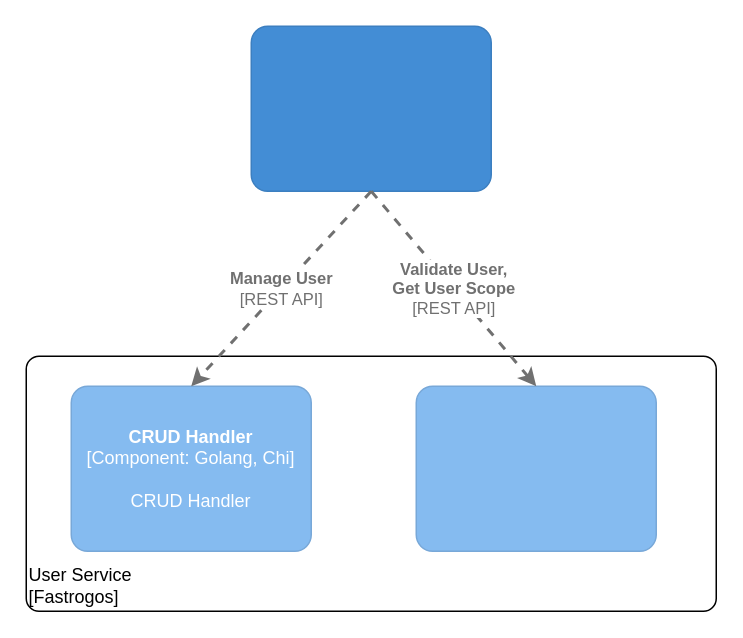
Image size: 743x638. Some labels were removed from this diagram. Each missing label, with the centre of its shape:
"Core [Container: Golang] Core Service" goes at (370,108).
"User Cred & Role Handler [Component: Golang, Chi] User Cred & Role Handler" goes at (535,468).
